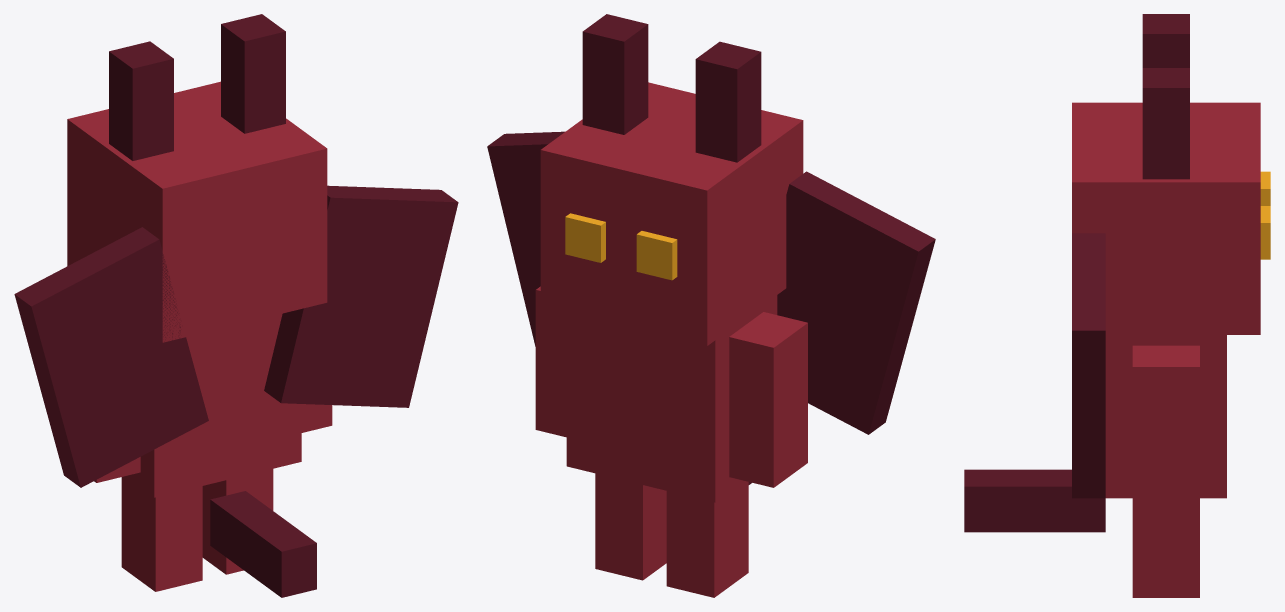
The model's file is demon_imp.gltf.
3 views of the same model, side by side, from view 1: azimuth 30°, elevation 25°; view 2: azimuth 150°, elevation 25°; view 3: azimuth 270°, elevation 25° (orthographic). The views are drawn at different scales.
Parts seen in each view (by area): view 1: head, wing_l, wing_r, body, leg_l, tail, horn_l, horn_r, leg_r, arm_r; view 2: head, wing_l, body, arm_l, leg_l, horn_l, horn_r, leg_r, wing_r, arm_r, eye_l, eye_r; view 3: head, arm_r, body, wing_r, tail, leg_r, horn_r, horn_l, eye_r.
Part boxes in pixels (x1,y1,x2,y2): head: [67, 81, 327, 342]; wing_l: [14, 227, 208, 487]; wing_r: [264, 185, 458, 407]; body: [125, 313, 301, 497]; leg_l: [121, 476, 202, 591]; tail: [210, 491, 316, 597]; horn_l: [109, 41, 173, 160]; horn_r: [221, 14, 285, 133]; leg_r: [202, 469, 273, 574]; arm_r: [301, 404, 332, 432]; head: [540, 82, 803, 345]; wing_l: [777, 171, 935, 434]; body: [566, 295, 777, 502]; arm_l: [729, 312, 807, 487]; leg_l: [666, 481, 748, 597]; horn_l: [695, 41, 761, 162]; horn_r: [582, 14, 648, 134]; leg_r: [595, 473, 666, 580]; wing_r: [487, 131, 564, 346]; arm_r: [535, 286, 566, 437]; eye_l: [636, 231, 677, 280]; eye_r: [565, 213, 605, 262]; head: [1072, 102, 1260, 334]; arm_r: [1132, 345, 1199, 504]; body: [1105, 335, 1226, 498]; wing_r: [1072, 233, 1105, 498]; tail: [964, 469, 1105, 532]; leg_r: [1132, 504, 1199, 597]; horn_r: [1142, 68, 1189, 179]; horn_l: [1142, 14, 1189, 67]; eye_r: [1260, 206, 1270, 259].
Bounding box in the file's own units: 0.9066 × 1.06 × 0.5687.
Materials: 3 (3 with a texture image).
